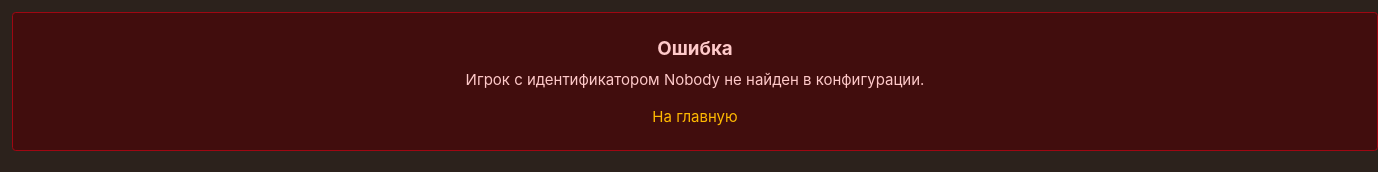
Test case: ChampionGames › неизвестный чемпион — ошибка и ссылка на главную
This screenshot has width=1378, height=172.
Expected: the text "Игрок с идентификатором Nobody не найден в конфигурации." is shown, x1=466 y1=70 x2=924 y2=89
Click the link "На главную" at (695, 117), box x1=652 y1=106 x2=738 y2=128
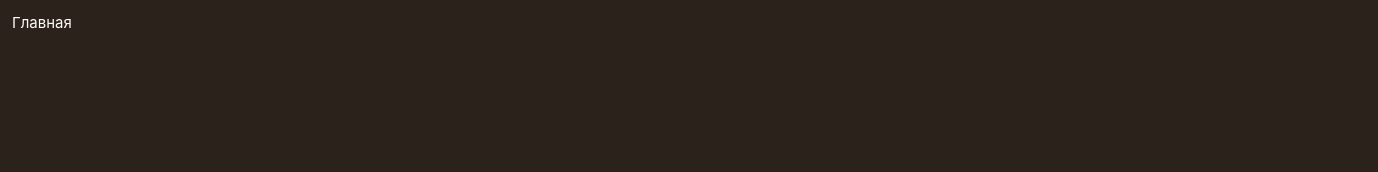
Result: the text "Главная" is shown at x1=12 y1=13 x2=72 y2=32
